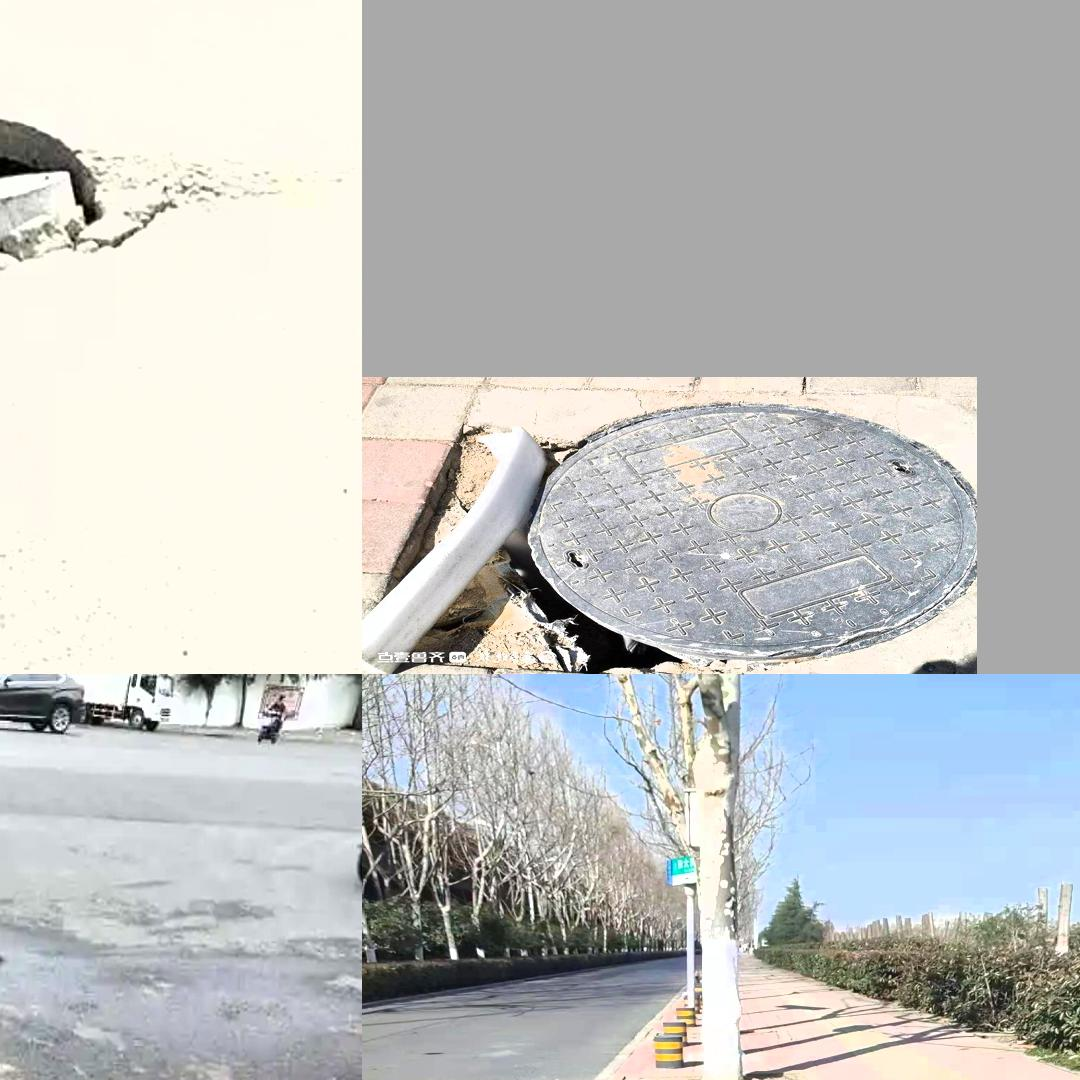circle: (409, 404, 966, 665), (0, 82, 223, 319), (0, 1009, 50, 1080)
